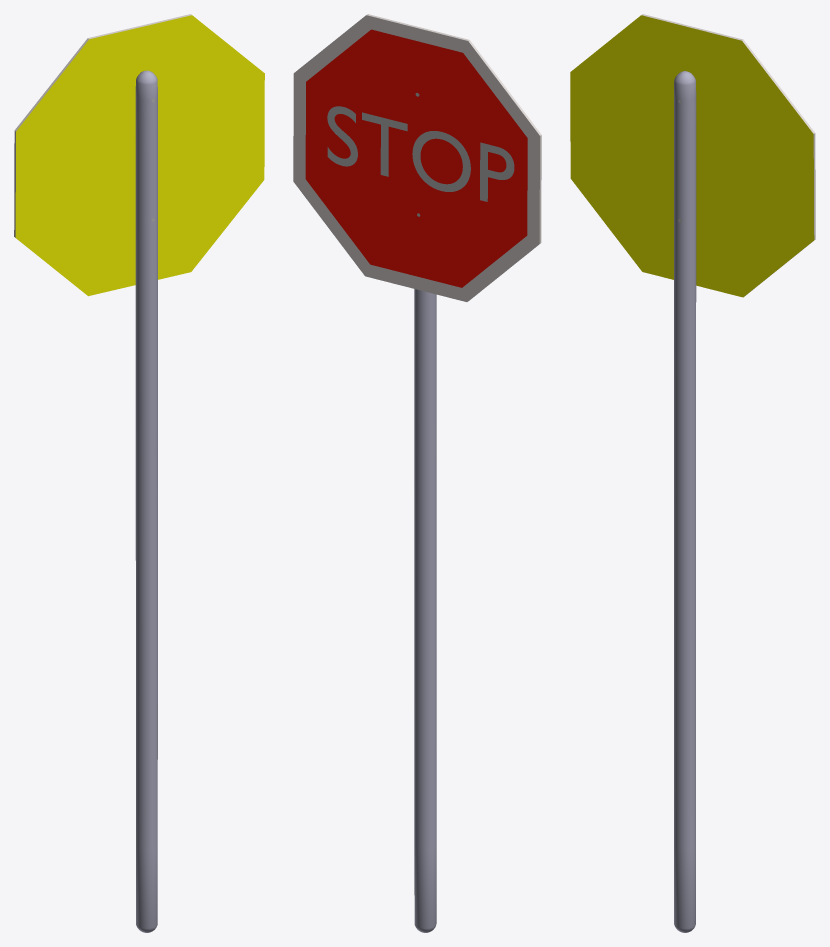
Rendered from asset.glb.
The picture shows the model from 3 angles, left to right: view 1: azimuth 30°, elevation 25°; view 2: azimuth 150°, elevation 25°; view 3: azimuth 330°, elevation 25°; orthographic projection.
Parts seen in each view (by area): view 1: Circle, Poste; view 2: Circle, Poste, Text; view 3: Circle, Poste.
Part boxes in pixels (<box>): Circle: <box>14,14,264,296</box>; Poste: <box>135,70,157,932</box>; Circle: <box>293,14,541,301</box>; Poste: <box>414,289,436,932</box>; Text: <box>327,106,514,201</box>; Circle: <box>570,14,815,297</box>; Poste: <box>674,71,696,932</box>.
Bounding box in the file's own units: 1.17 × 4.08 × 0.1288.
Materials: 5 (1 with a texture image).
